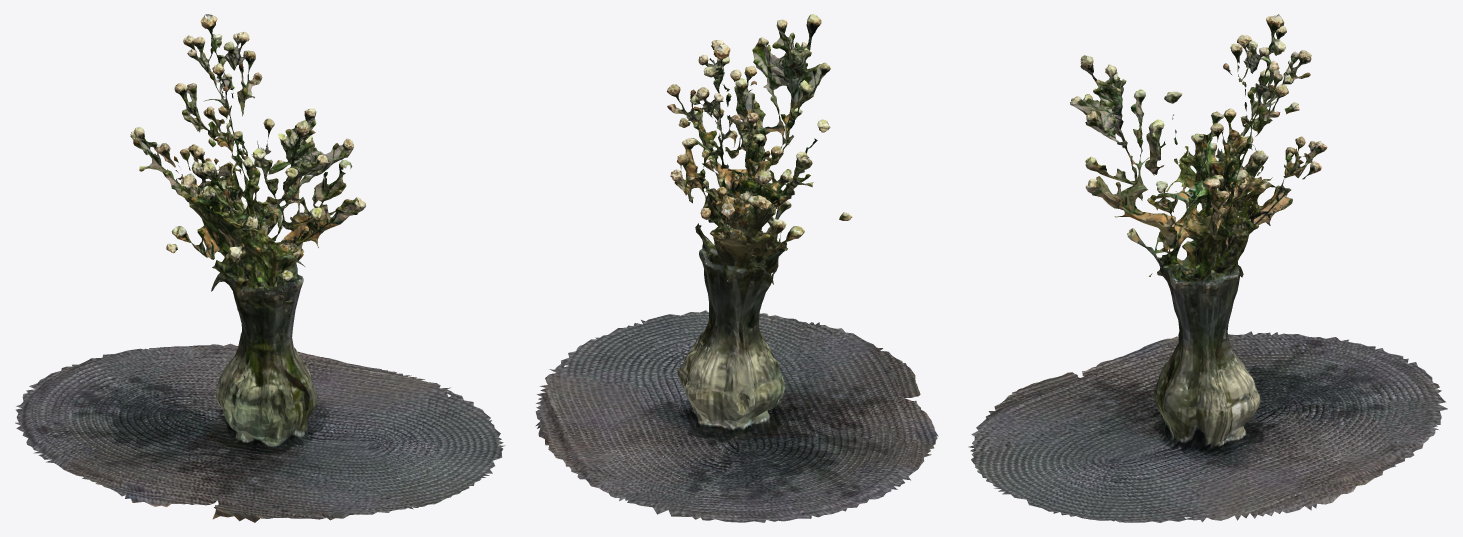
Rendered from teste.glb.
3 renders of one model, left to right at view 1: azimuth 30°, elevation 25°; view 2: azimuth 150°, elevation 25°; view 3: azimuth 270°, elevation 25°, orthographic. The views are drawn at different scales.
Bounding box in the file's own units: 0.3761 × 0.3811 × 0.4002.
Materials: 1 (1 with a texture image).
